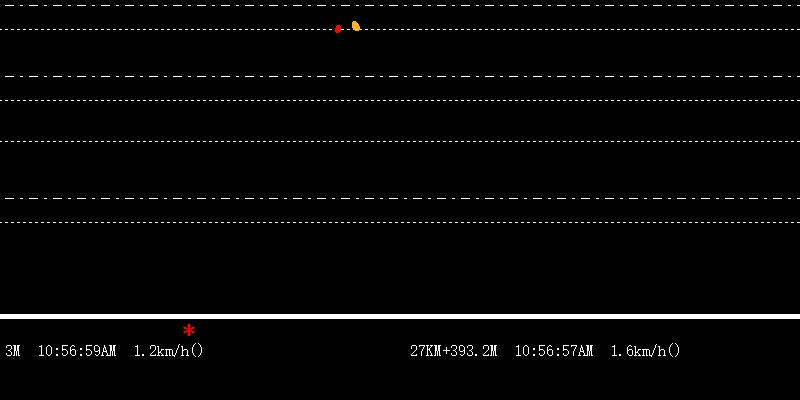face_1: (349, 18, 362, 32), (333, 22, 342, 37)
star: (180, 321, 195, 337)
